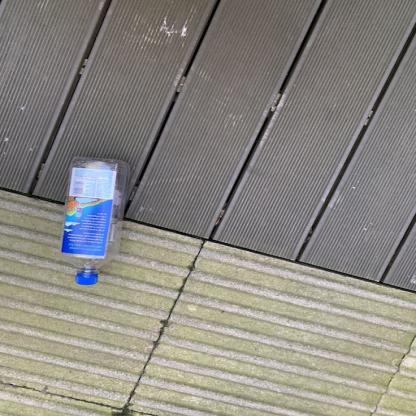trash: (58, 156, 133, 287)
